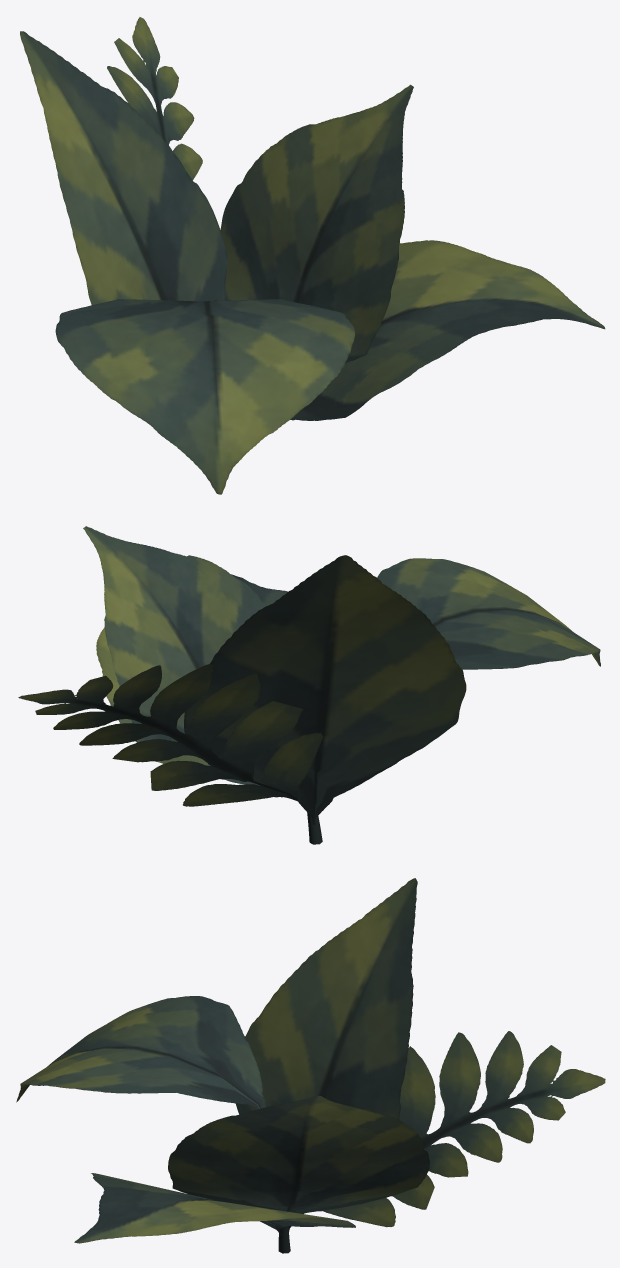
Rendered from SM_FR_BushOpen.fbx.
The picture shows the model from 3 angles, top to bottom: view 1: azimuth 30°, elevation 25°; view 2: azimuth 150°, elevation 25°; view 3: azimuth 270°, elevation 25°; orthographic projection. The views are drawn at different scales.
Parts seen in each view (by area): view 1: SM_FR_BushOpen; view 2: SM_FR_BushOpen; view 3: SM_FR_BushOpen.
Part boxes in pixels (x1,y1,x2,y2): SM_FR_BushOpen: (20, 17, 605, 494); SM_FR_BushOpen: (18, 526, 600, 844); SM_FR_BushOpen: (16, 878, 605, 1253).
Bounding box in the file's own units: 1.65 × 1.24 × 2.02.
Materials: 1 (1 with a texture image).
